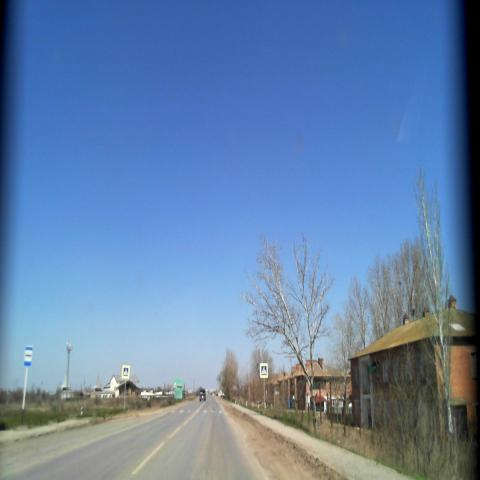5_16: (24, 344, 32, 366)
5_19_1: (260, 362, 269, 380), (121, 366, 130, 381)
